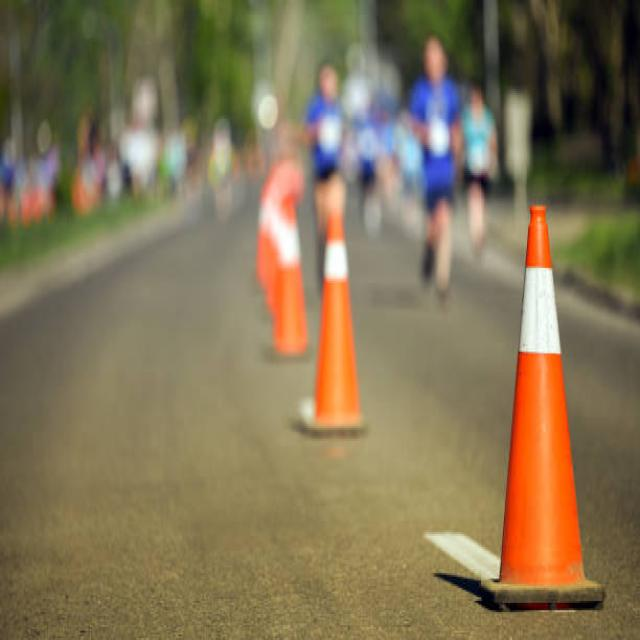Traffic Cone: (474, 185, 617, 634)
